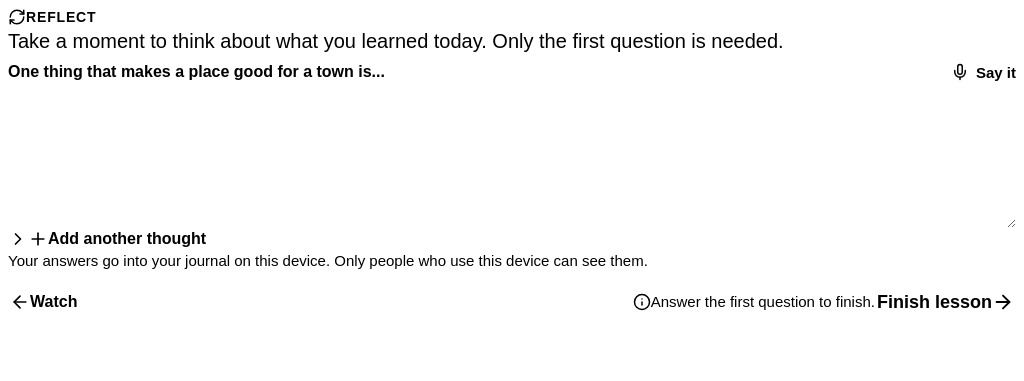
Scenario: Say it in the lesson › a spoken answer to the required Reflect prompt completes the lesson
The image size is (1024, 381).
Step 1. Click the button "Say it" → (980, 72), box top-left (944, 56), bottom-right (1016, 88)
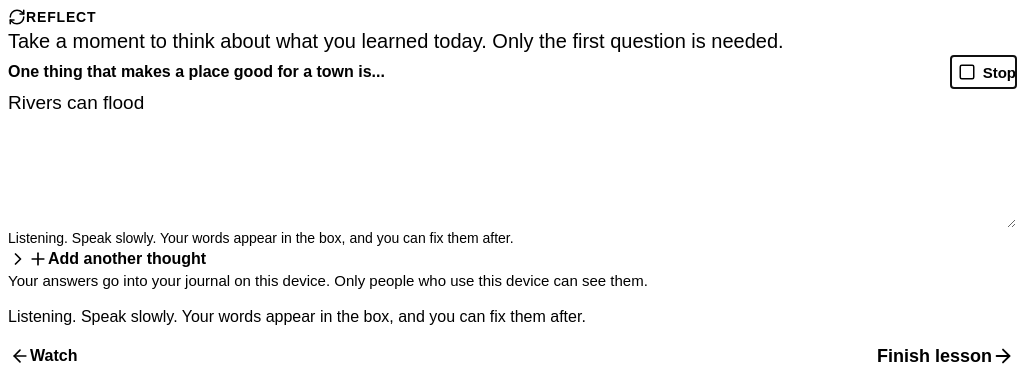
Now the text box labelled "One thing that makes a place good for a town is..." holds "Rivers can flood", box top-left (8, 88), bottom-right (1016, 228)
